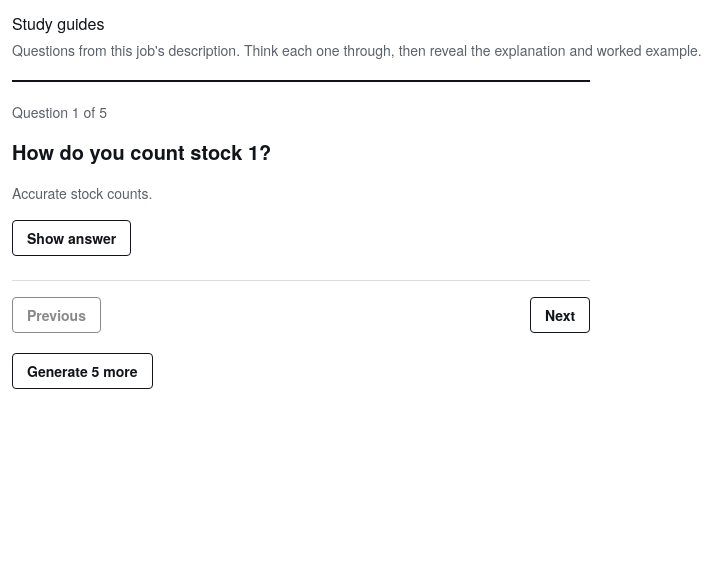
Test: reveals one explained answer and navigates with focus and the saved total
This screenshot has width=718, height=579.
Expected: the heading "How do you count stock 1?" is shown, top-left (12, 137), bottom-right (271, 166)
Expected: the text "Question 1 of 5" is shown, top-left (12, 102), bottom-right (107, 122)
Click the button "Show answer": click(72, 238) top-left (12, 220), bottom-right (131, 256)
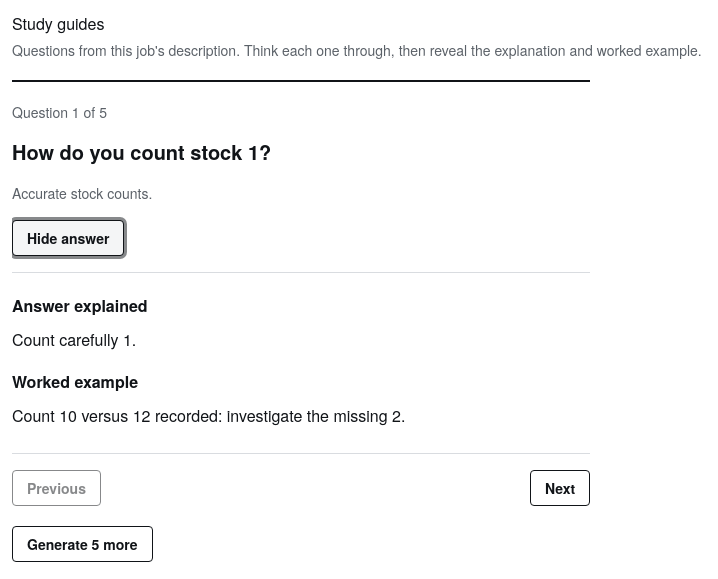
Expected: the text "Count carefully 1." is shown, top-left (12, 328), bottom-right (136, 351)
Click the button "Next": click(560, 488) top-left (530, 470), bottom-right (590, 506)
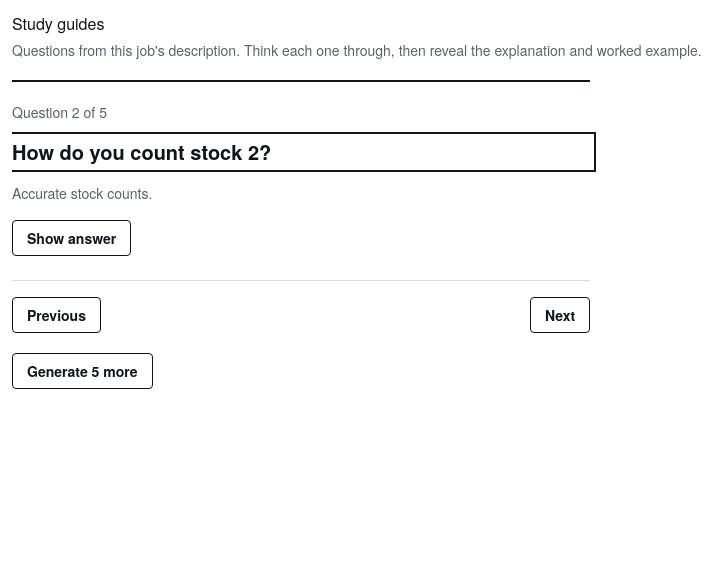
Expected: the button "Show answer" is collapsed, top-left (12, 220), bottom-right (131, 256)
Click the button "Next": click(560, 315) top-left (530, 297), bottom-right (590, 333)
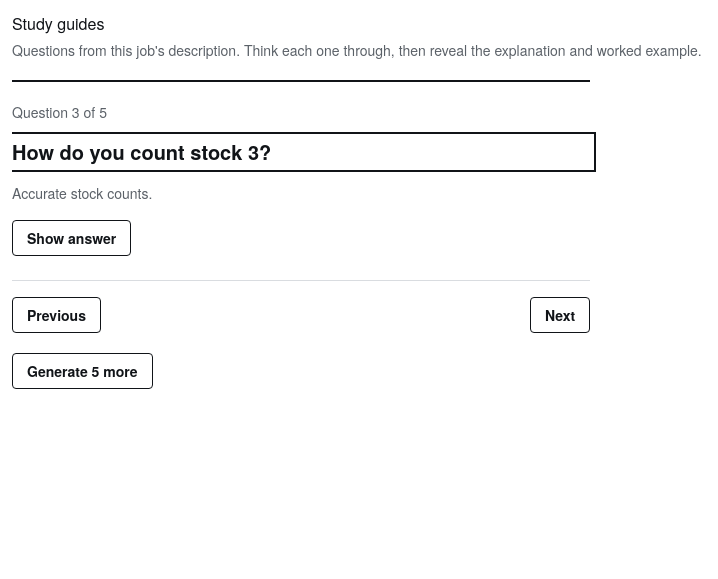
Click the button "Next": click(560, 315) top-left (530, 297), bottom-right (590, 333)
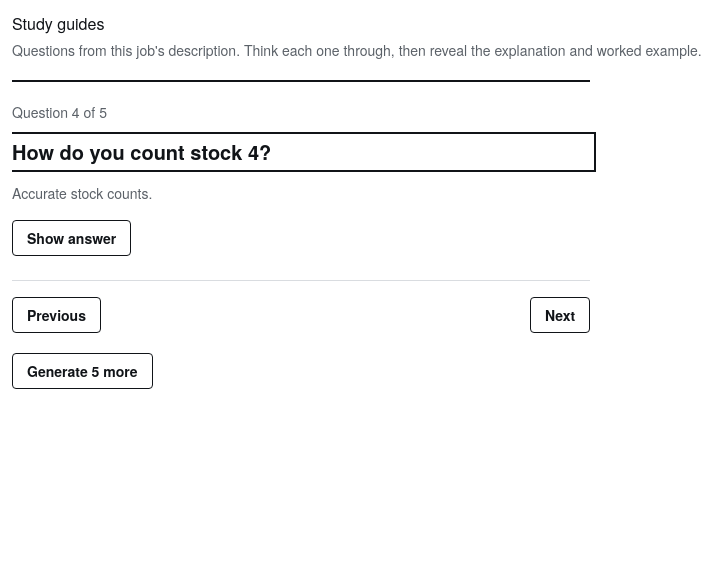
Click the button "Next": click(560, 315) top-left (530, 297), bottom-right (590, 333)
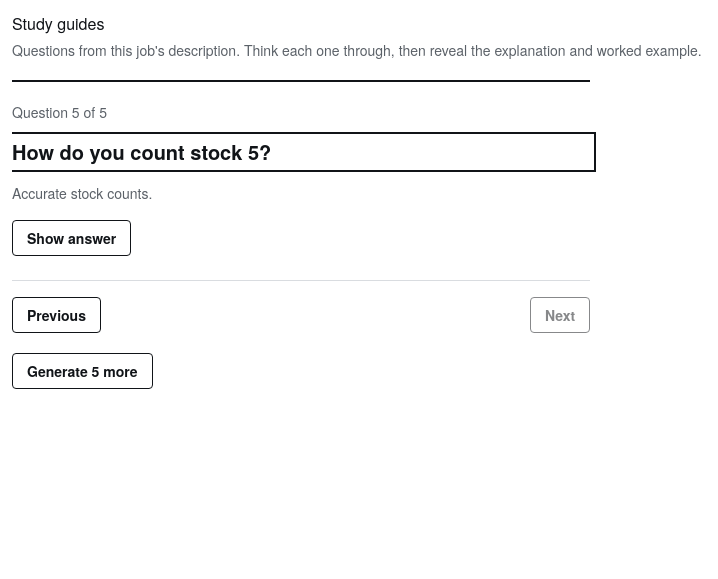
Expected: the button "Generate 5 more" is enabled, top-left (12, 353), bottom-right (153, 389)
Expected: the button "Next" is disabled, top-left (530, 297), bottom-right (590, 333)
